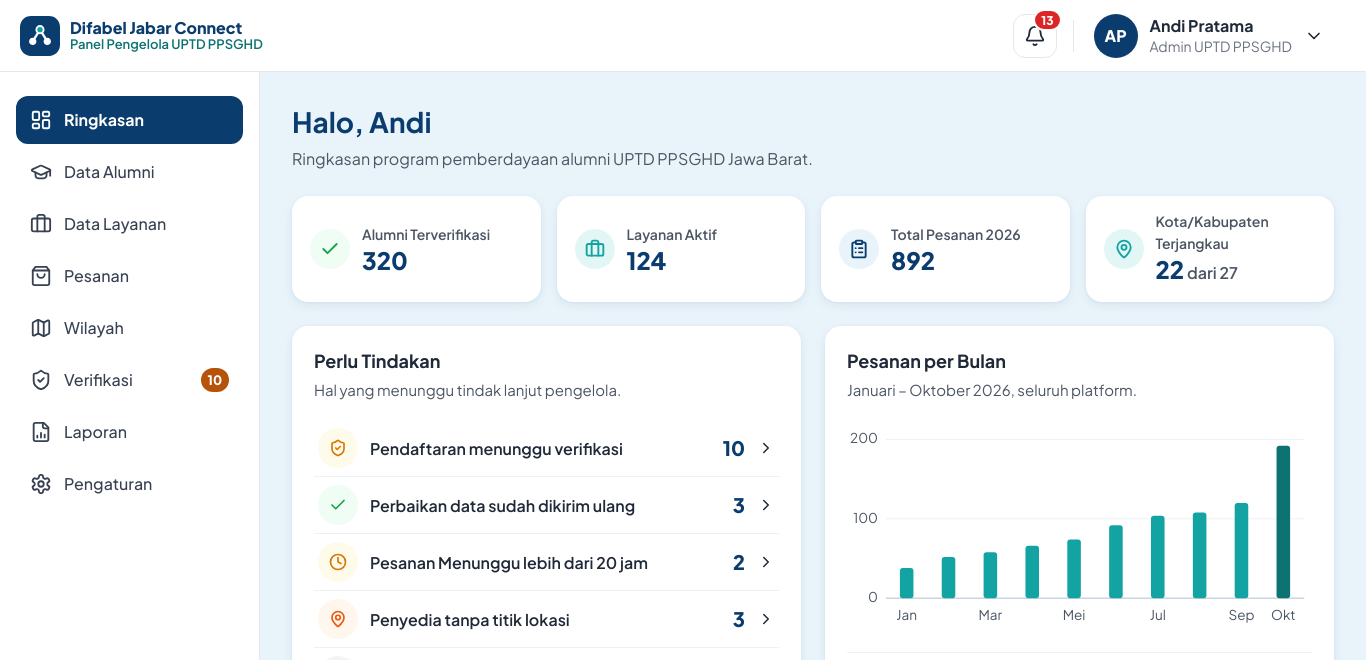
it: Panel Pengelola › sidebar Pengelola menautkan semua halaman dan menandai halaman aktif
The width and height of the screenshot is (1366, 660).
Expected: the heading "Halo, Andi" is shown, [292,104,432,140]
Expected: the link with aria-label "verifikasi, 10 menunggu" is shown, [30,368,229,392]
Click the link "Laporan".
click(78, 432)  # box [30,421,127,443]
(page scrolled)
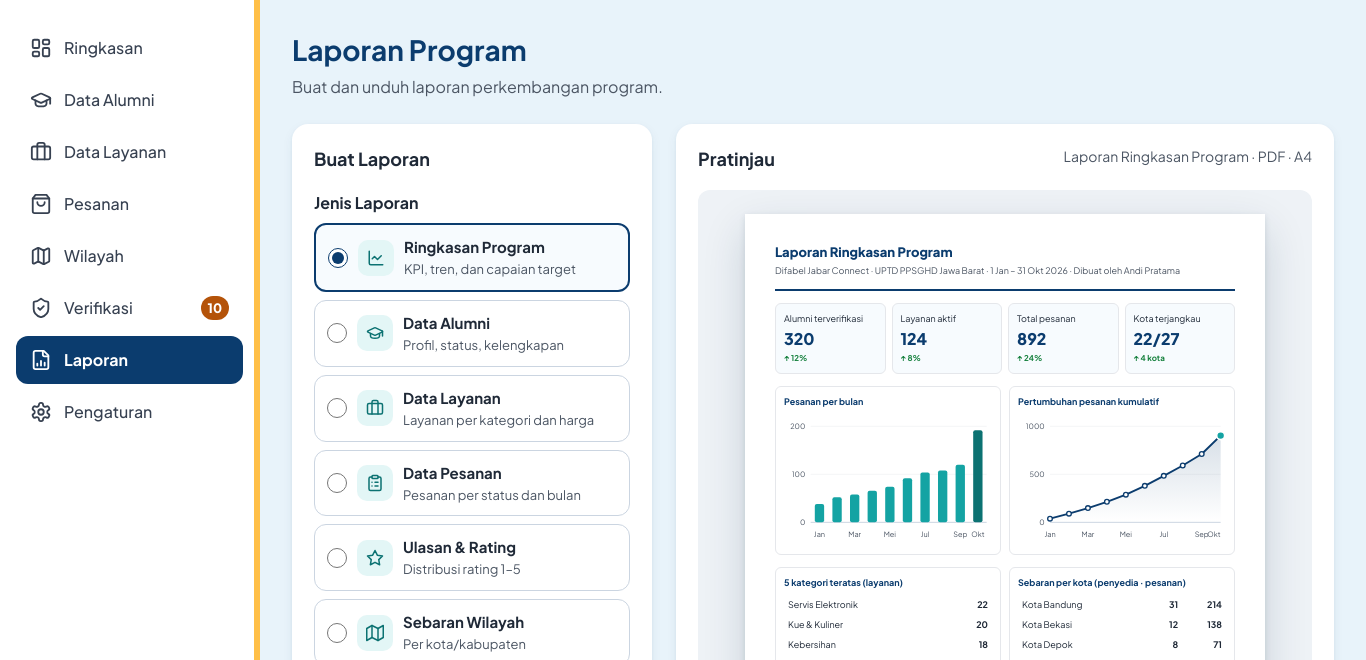
Result: the heading "Laporan Program" is shown at [292,32,526,68]
